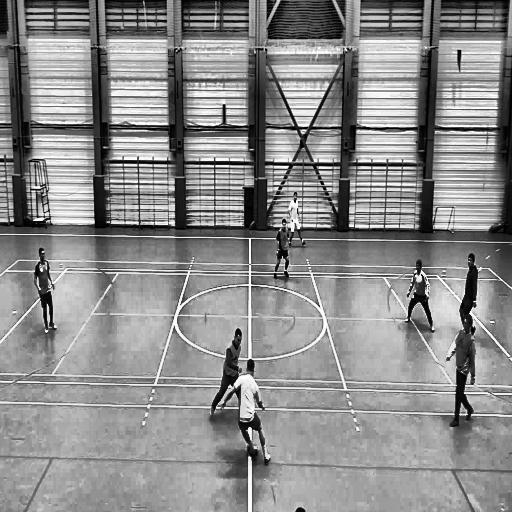ball: (253, 444, 260, 458)
player: (444, 314, 476, 432), (403, 259, 435, 333), (243, 360, 270, 442), (34, 246, 57, 335), (272, 219, 292, 283), (458, 251, 479, 311), (222, 327, 243, 374), (292, 188, 306, 247)
